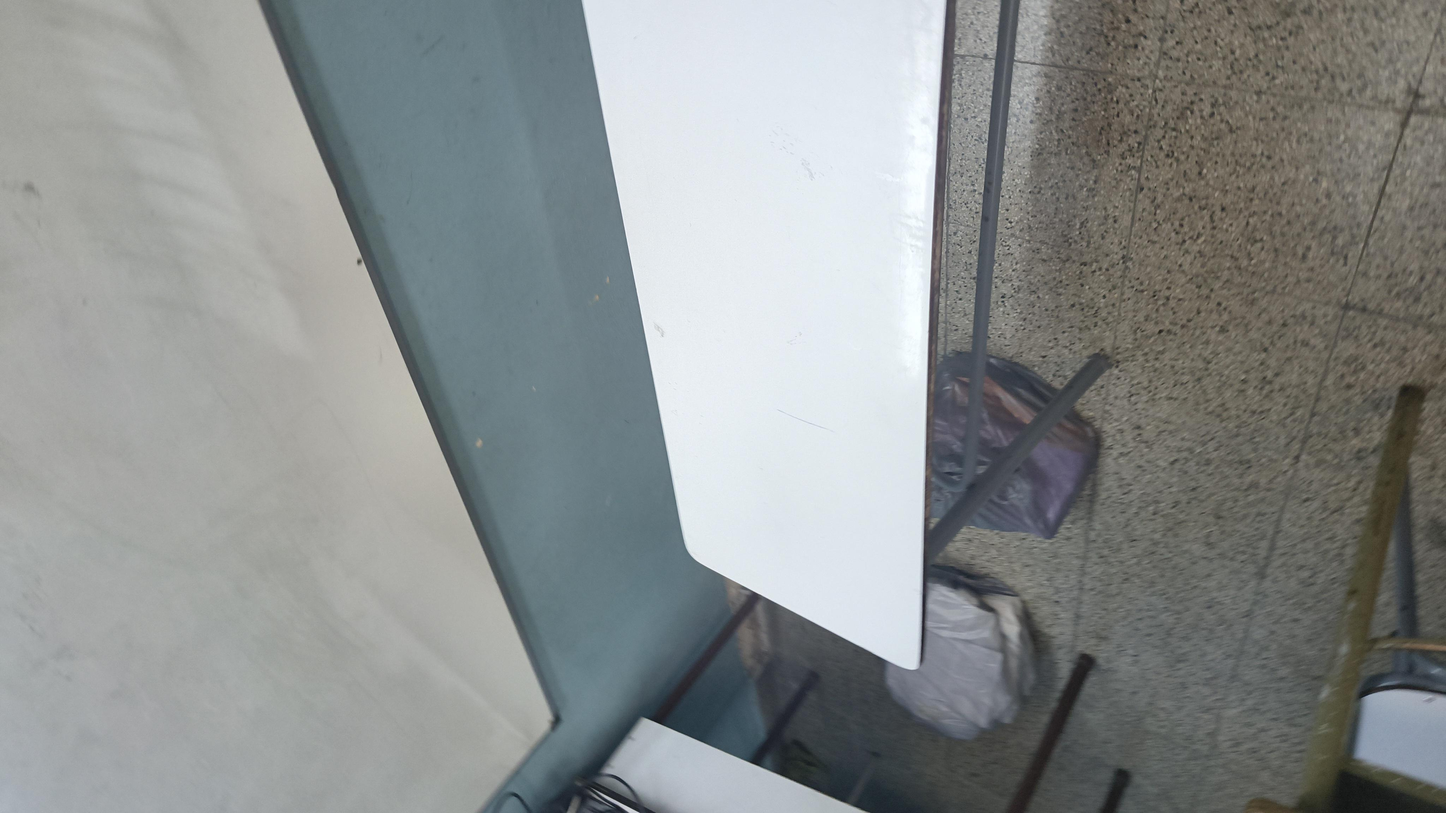Garbage: (483, 494, 835, 631), (75, 488, 446, 590)
